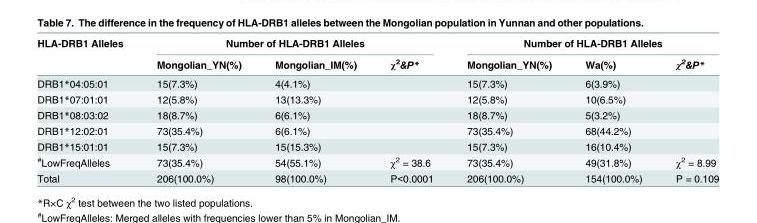table: (36, 36, 718, 183)
table column: (139, 36, 257, 183), (449, 36, 567, 183), (257, 36, 372, 183), (36, 36, 139, 183), (567, 36, 658, 183), (372, 36, 449, 183), (658, 36, 718, 183)
table column header: (36, 36, 718, 73)
table row: (36, 52, 718, 73), (36, 73, 718, 91), (36, 153, 718, 170), (36, 36, 718, 52), (36, 106, 718, 122), (36, 122, 718, 138), (36, 91, 718, 106), (36, 138, 718, 153), (36, 170, 718, 183)
table spanning cell: (139, 36, 449, 52), (449, 36, 718, 52), (36, 36, 139, 73)
